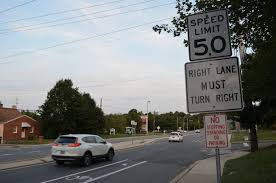speedLimit50: (186, 5, 232, 59)
